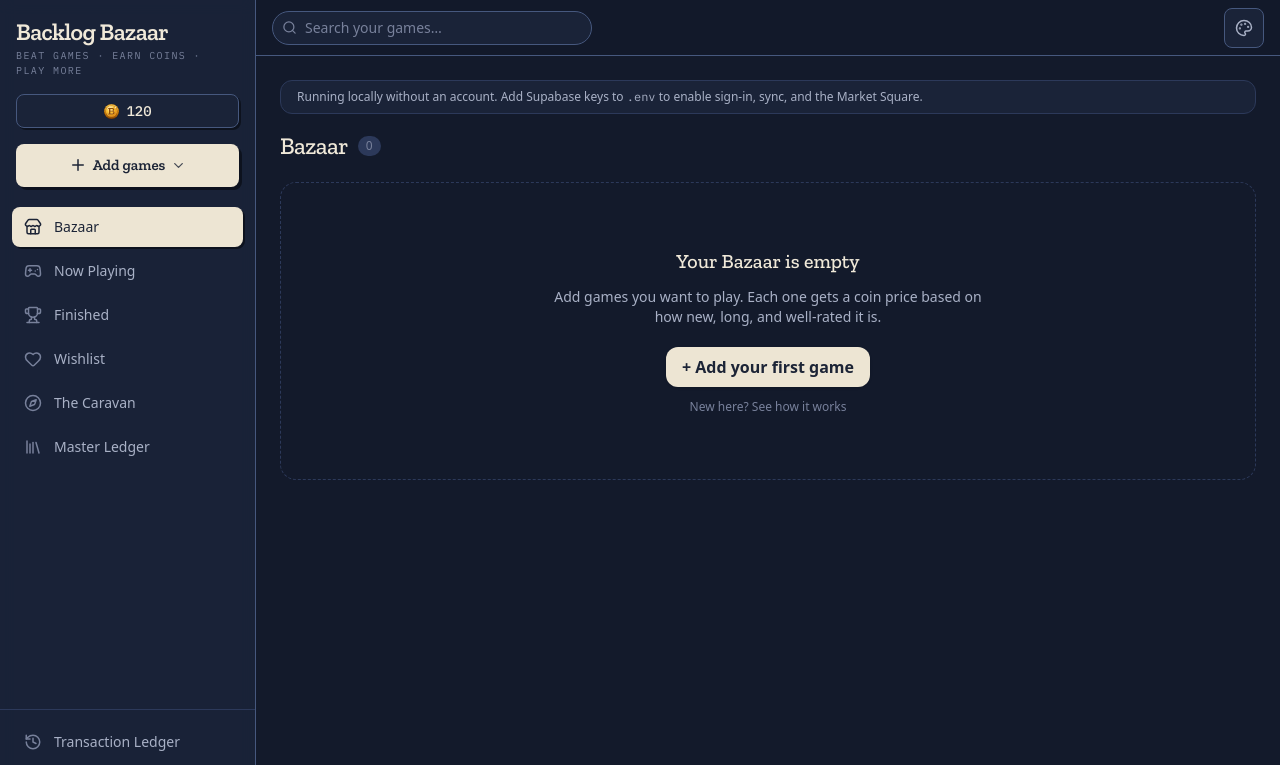
Test: App › hides empty Now Playing lanes, except Focus, and keeps filled ones
Click the button "Now Playing". click: click(128, 270)
box: [12, 250, 243, 290]
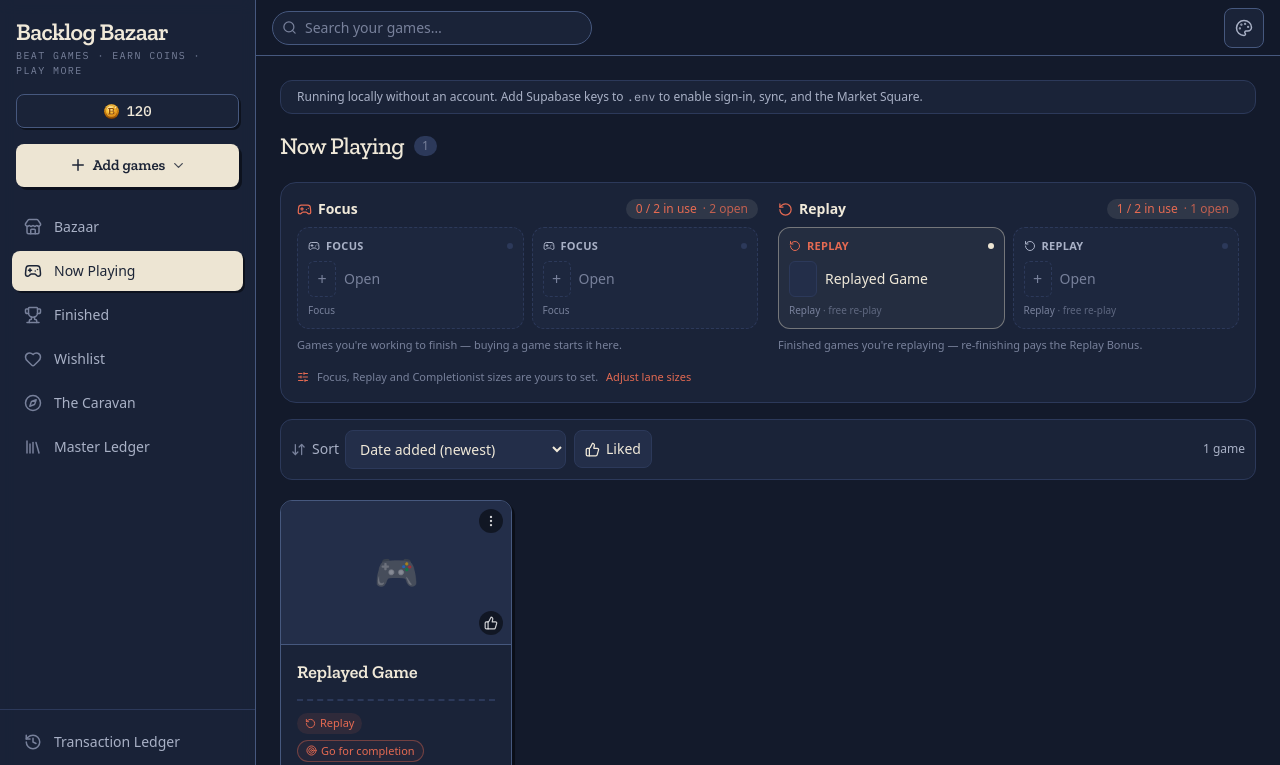
Expected: the button titled "Jump to your Replay games" is shown, [778, 199, 846, 219]
